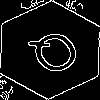Q: (25, 25, 90, 86)
